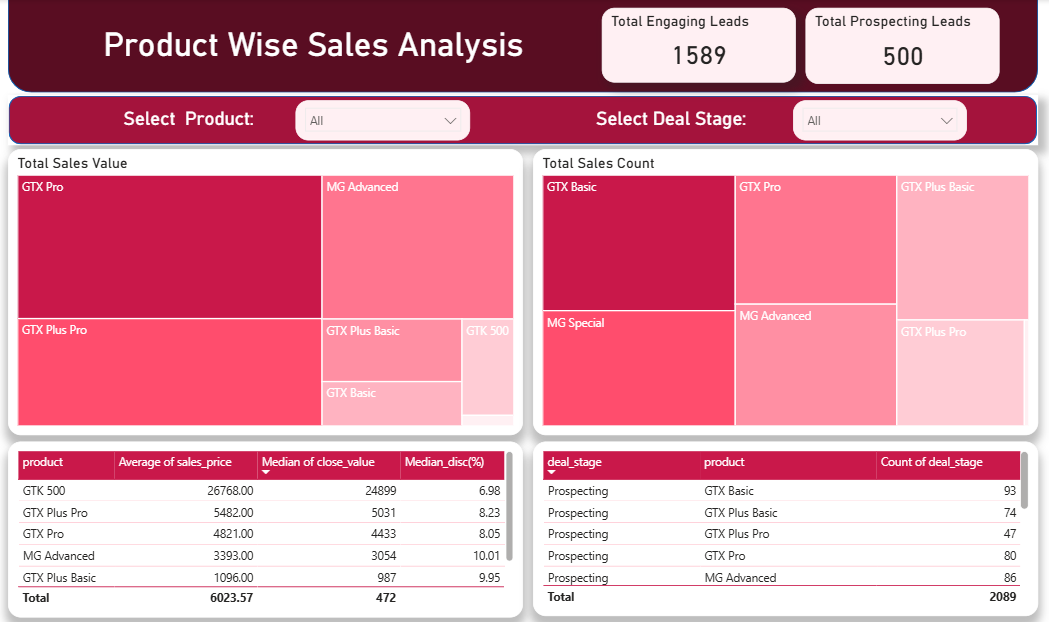

The dashboard page shown, as its layout file describes it:
{"tool":"powerbi","page":{"name":"Page 2","canvas":[1280,720],"ordinal":1},"visuals":[{"type":"shape","box":[57.7,111.1,1188.8,57.7],"z":1000},{"type":"shape","box":[57.7,0,1188.8,108],"z":5000},{"type":"slicer","fields":{"Values":["sales_pipeline.product"]},"box":[389.5,116.9,202,46.2],"z":6000},{"type":"slicer","fields":{"Values":["sales_pipeline.deal_stage"]},"box":[963.8,116.9,200.5,46.2],"z":7000},{"type":"card","title":"Total Engaging Leads","fields":{"Values":["CountNonNull(sales_pipeline.deal_stage)"]},"box":[743,10.1,223.6,86.6],"z":8000},{"type":"card","title":"Total Prospecting Leads","fields":{"Values":["CountNonNull(sales_pipeline.deal_stage)"]},"box":[978.2,10.1,223.6,88],"z":9000},{"type":"textbox","box":[163,24,552.6,67.8],"z":10000},{"type":"textbox","box":[186.1,121,184.7,43.3],"z":11000},{"type":"textbox","box":[731.5,121,207.8,43.3],"z":12000},{"type":"treemap","title":"Total Sales Value","fields":{"Group":["sales_pipeline.product"],"Values":["Sum(sales_pipeline.close_value)"]},"box":[57.7,173.1,594.4,330.4],"z":16000},{"type":"treemap","title":"Total Sales Count","fields":{"Group":["sales_pipeline.product"],"Values":["CountNonNull(sales_pipeline.close_value)"]},"box":[663.7,173.1,582.9,330.4],"z":28500},{"type":"tableEx","fields":{"Values":["products.product","Avg(products.sales_price)","Median(sales_pipeline.close_value)","products.Median_disc(%)"]},"box":[57.7,510.7,594.4,203.4],"z":30500},{"type":"tableEx","fields":{"Values":["sales_pipeline.deal_stage1","sales_pipeline.product","sales_pipeline.deal_stage"]},"box":[663.7,510.7,582.9,202],"z":32500}]}

Visuals, with their boxes on the page's 1280x720 design canvas (x1, y1, x2, y2). These are canvas units, not pixel positions in the 1049x622 screenshot, which may show the page scaled, cropped or inside an application window:
shape: bbox=[58, 111, 1246, 169]
shape: bbox=[58, 0, 1246, 108]
slicer - sales_pipeline.product: bbox=[390, 117, 592, 163]
slicer - sales_pipeline.deal_stage: bbox=[964, 117, 1164, 163]
"Total Engaging Leads" card: bbox=[743, 10, 967, 97]
"Total Prospecting Leads" card: bbox=[978, 10, 1202, 98]
textbox: bbox=[163, 24, 716, 92]
textbox: bbox=[186, 121, 371, 164]
textbox: bbox=[732, 121, 939, 164]
"Total Sales Value" treemap: bbox=[58, 173, 652, 504]
"Total Sales Count" treemap: bbox=[664, 173, 1247, 504]
tableEx - products.product x Avg(products.sales_price): bbox=[58, 511, 652, 714]
tableEx - sales_pipeline.deal_stage1 x sales_pipeline.product: bbox=[664, 511, 1247, 713]
